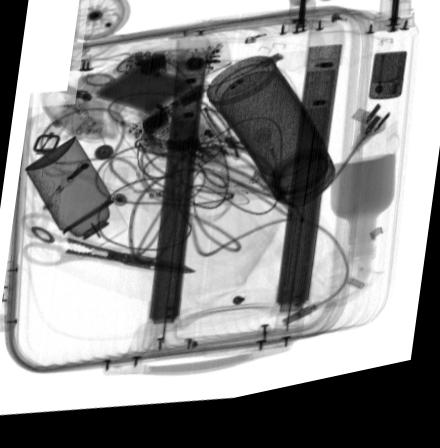Lighter: (369, 69, 406, 115)
Powerbank: (86, 61, 199, 129)
Scissors: (16, 212, 195, 283)
Sprayer: (22, 138, 130, 264)
